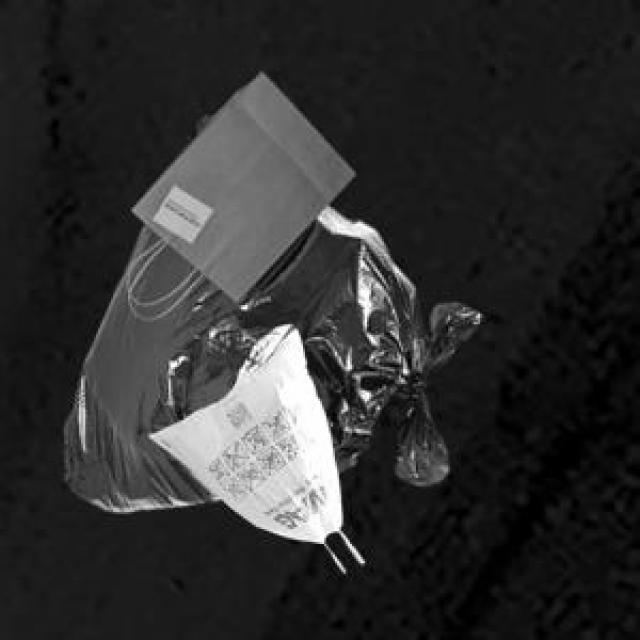miscellaneous trash: (62, 111, 478, 508)
paper: (128, 68, 350, 297)
